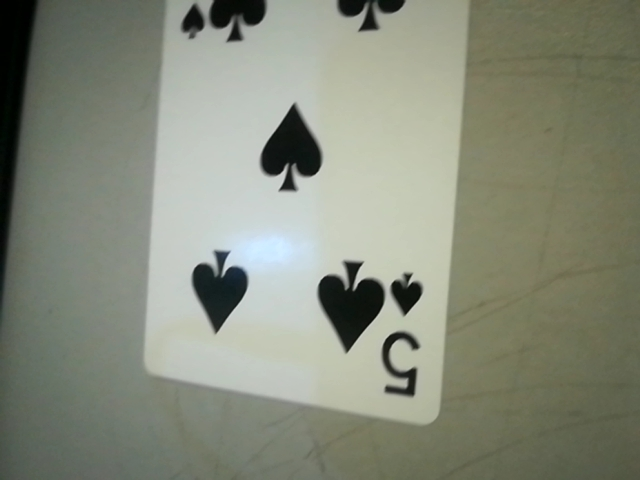ht 5: (374, 259, 438, 413)
